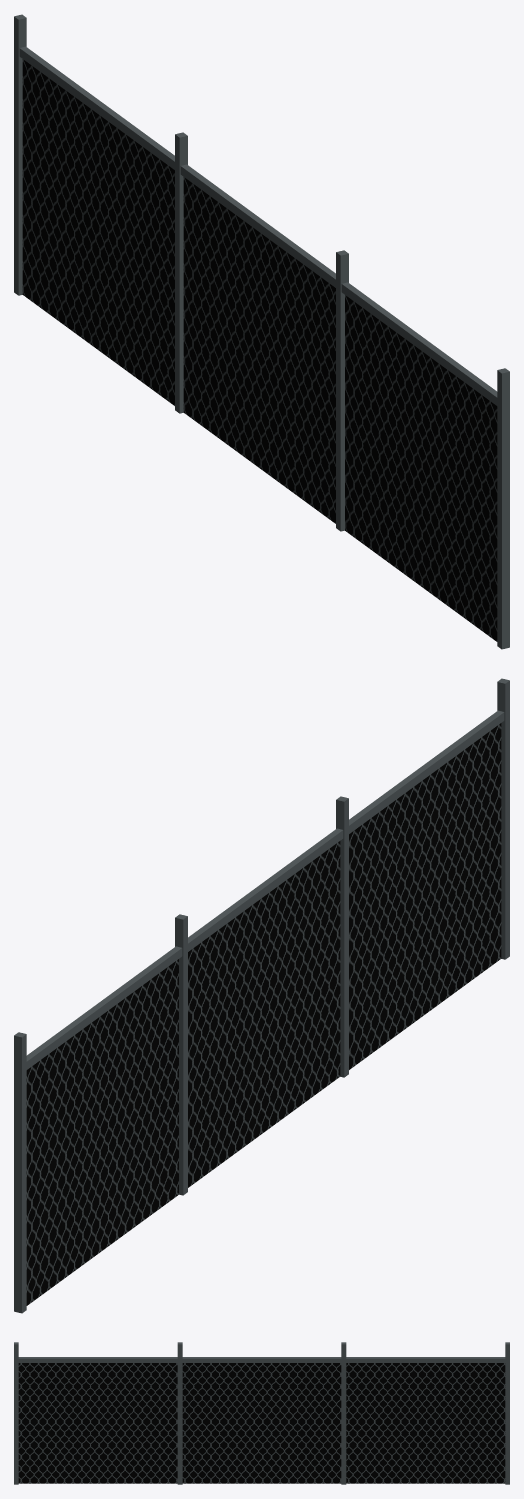
The model's file is fance_01_p4.fbx.
The picture shows the model from 3 angles, top to bottom: view 1: azimuth 30°, elevation 25°; view 2: azimuth 150°, elevation 25°; view 3: azimuth 270°, elevation 25°; orthographic projection. The views are drawn at different scales.
Visible parts, largest first — view 1: fance_01_p4; view 2: fance_01_p4; view 3: fance_01_p4.
Boxes of the visible parts, x1,y1,x2,y2 form: fance_01_p4: (14, 14, 509, 649); fance_01_p4: (14, 678, 509, 1313); fance_01_p4: (14, 1342, 509, 1484).
Bounding box in the file's own units: 11.56 × 376 × 1204.
